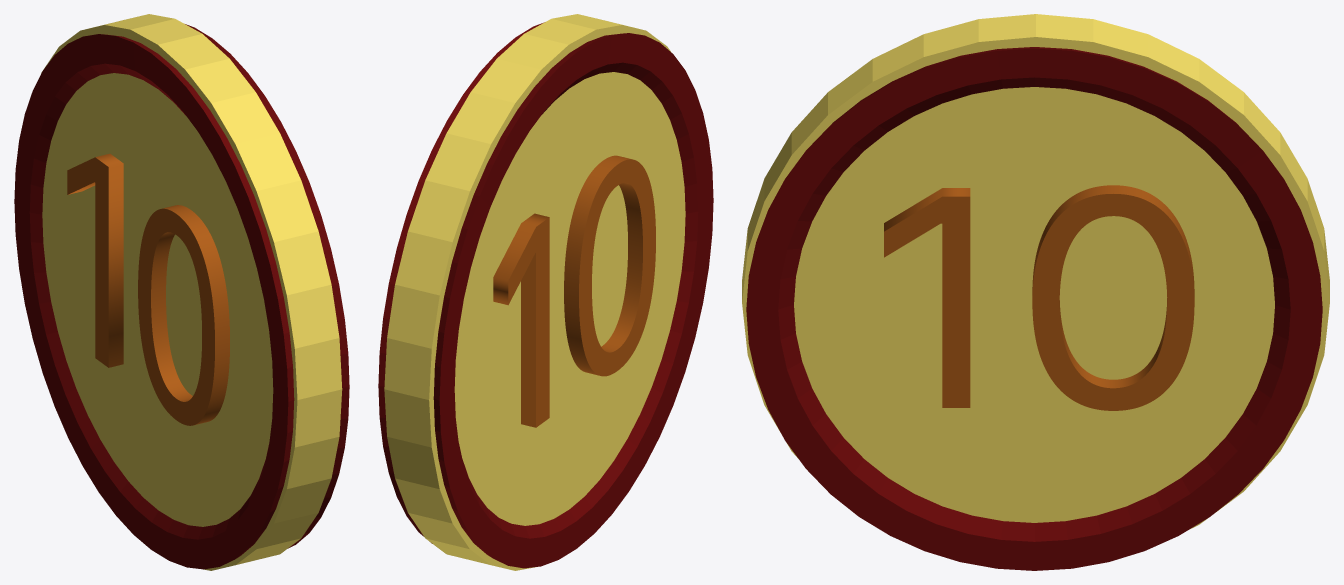
File: coin.glb
3 renders of one model, left to right at view 1: azimuth 30°, elevation 25°; view 2: azimuth 150°, elevation 25°; view 3: azimuth 270°, elevation 25°, orthographic. The views are drawn at different scales.
Parts seen in each view (by area): view 1: Cylinder, Torus.001, GN Instance, Torus; view 2: Cylinder, Torus.001, GN Instance, Torus; view 3: Cylinder, Torus, GN Instance.
Boxes of the visible parts, x1,y1,x2,y2 form: Cylinder: [41, 14, 342, 570]; Torus.001: [14, 34, 294, 569]; GN Instance: [67, 153, 229, 425]; Torus: [185, 24, 349, 548]; Cylinder: [384, 14, 685, 570]; Torus.001: [433, 33, 713, 568]; GN Instance: [493, 155, 655, 427]; Torus: [378, 22, 544, 543]; Cylinder: [742, 14, 1329, 528]; Torus: [746, 47, 1322, 570]; GN Instance: [884, 185, 1194, 410].
Size of the model in its own units: 0.3157 by 2 by 2.
